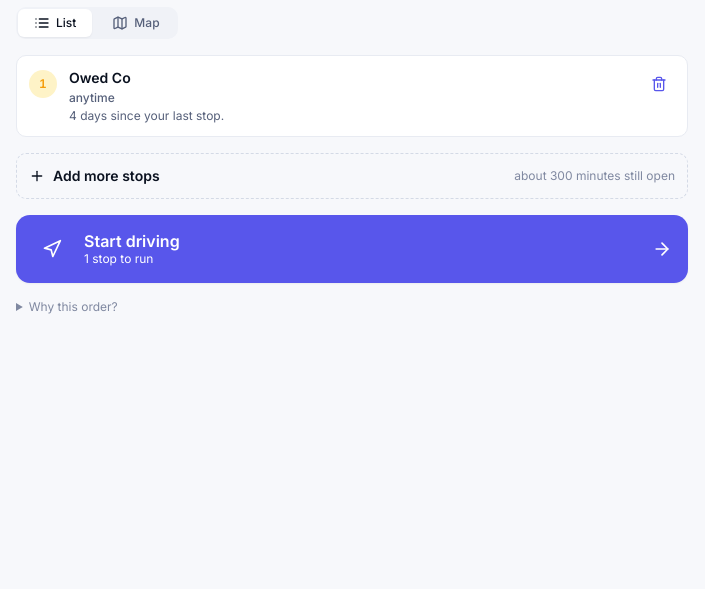
Scenario: TodaysPathView › one-tap 'Add more stops' (v2.2 B 4.4 fill to capacity) › removing one filled stop via the existing Trash recounts the notice; removing the last clears it
Click the button "Add more stops about 300 minutes still open" at (106, 176), box [16, 153, 688, 199]
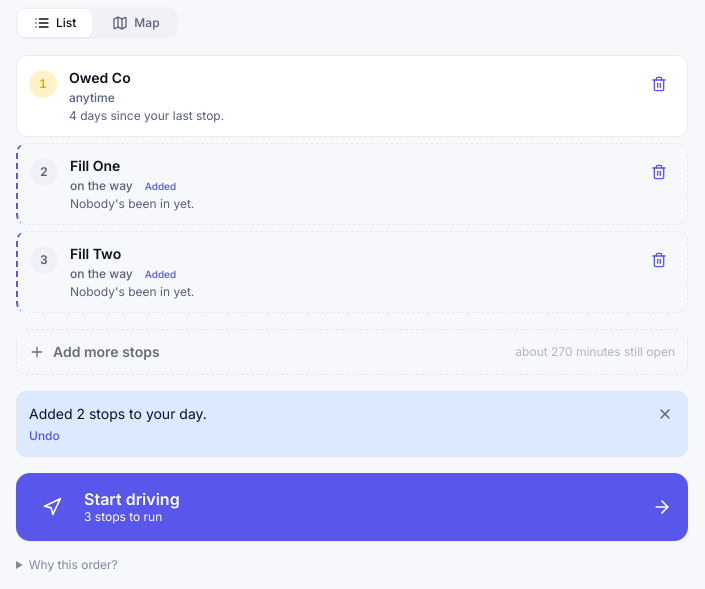
Expected: the text "Added 2 stops to your day." is shown, [29, 405, 207, 422]
Click the button named "remove fill one" at (659, 172), box [643, 156, 675, 188]
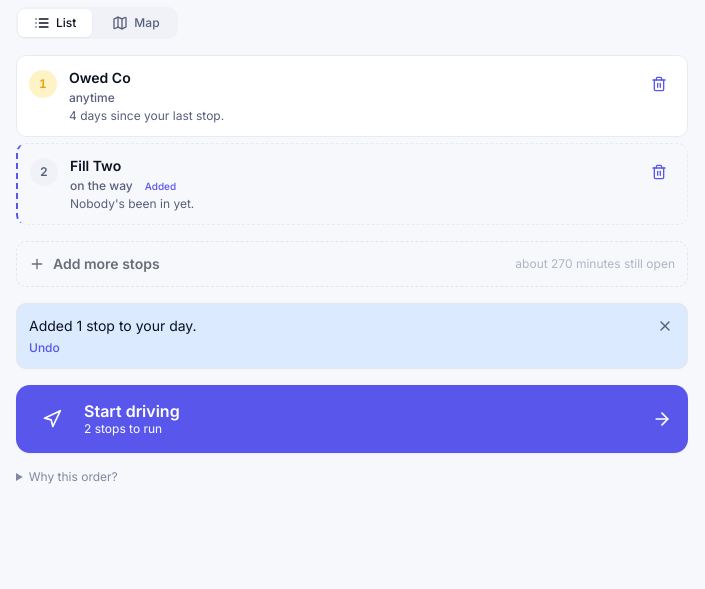
Expected: the text "Added" is shown, [145, 180, 176, 192]
Expected: the text "Added 1 stop to your day." is shown, [29, 317, 197, 334]
Expected: the text "Fill One" is gone
# Dropping the last filled stop clears the notice entirely.
Click the button named "remove fill two" at (659, 172), box [643, 156, 675, 188]
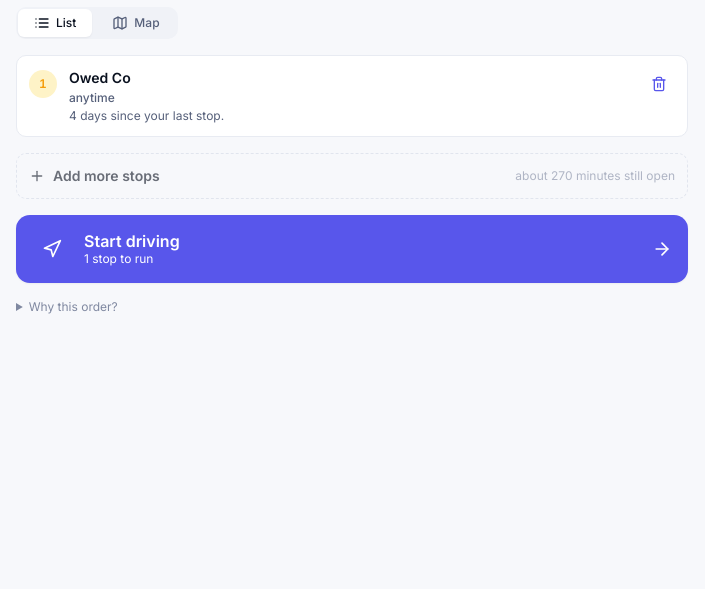
Expected: the text "to your day." is gone
